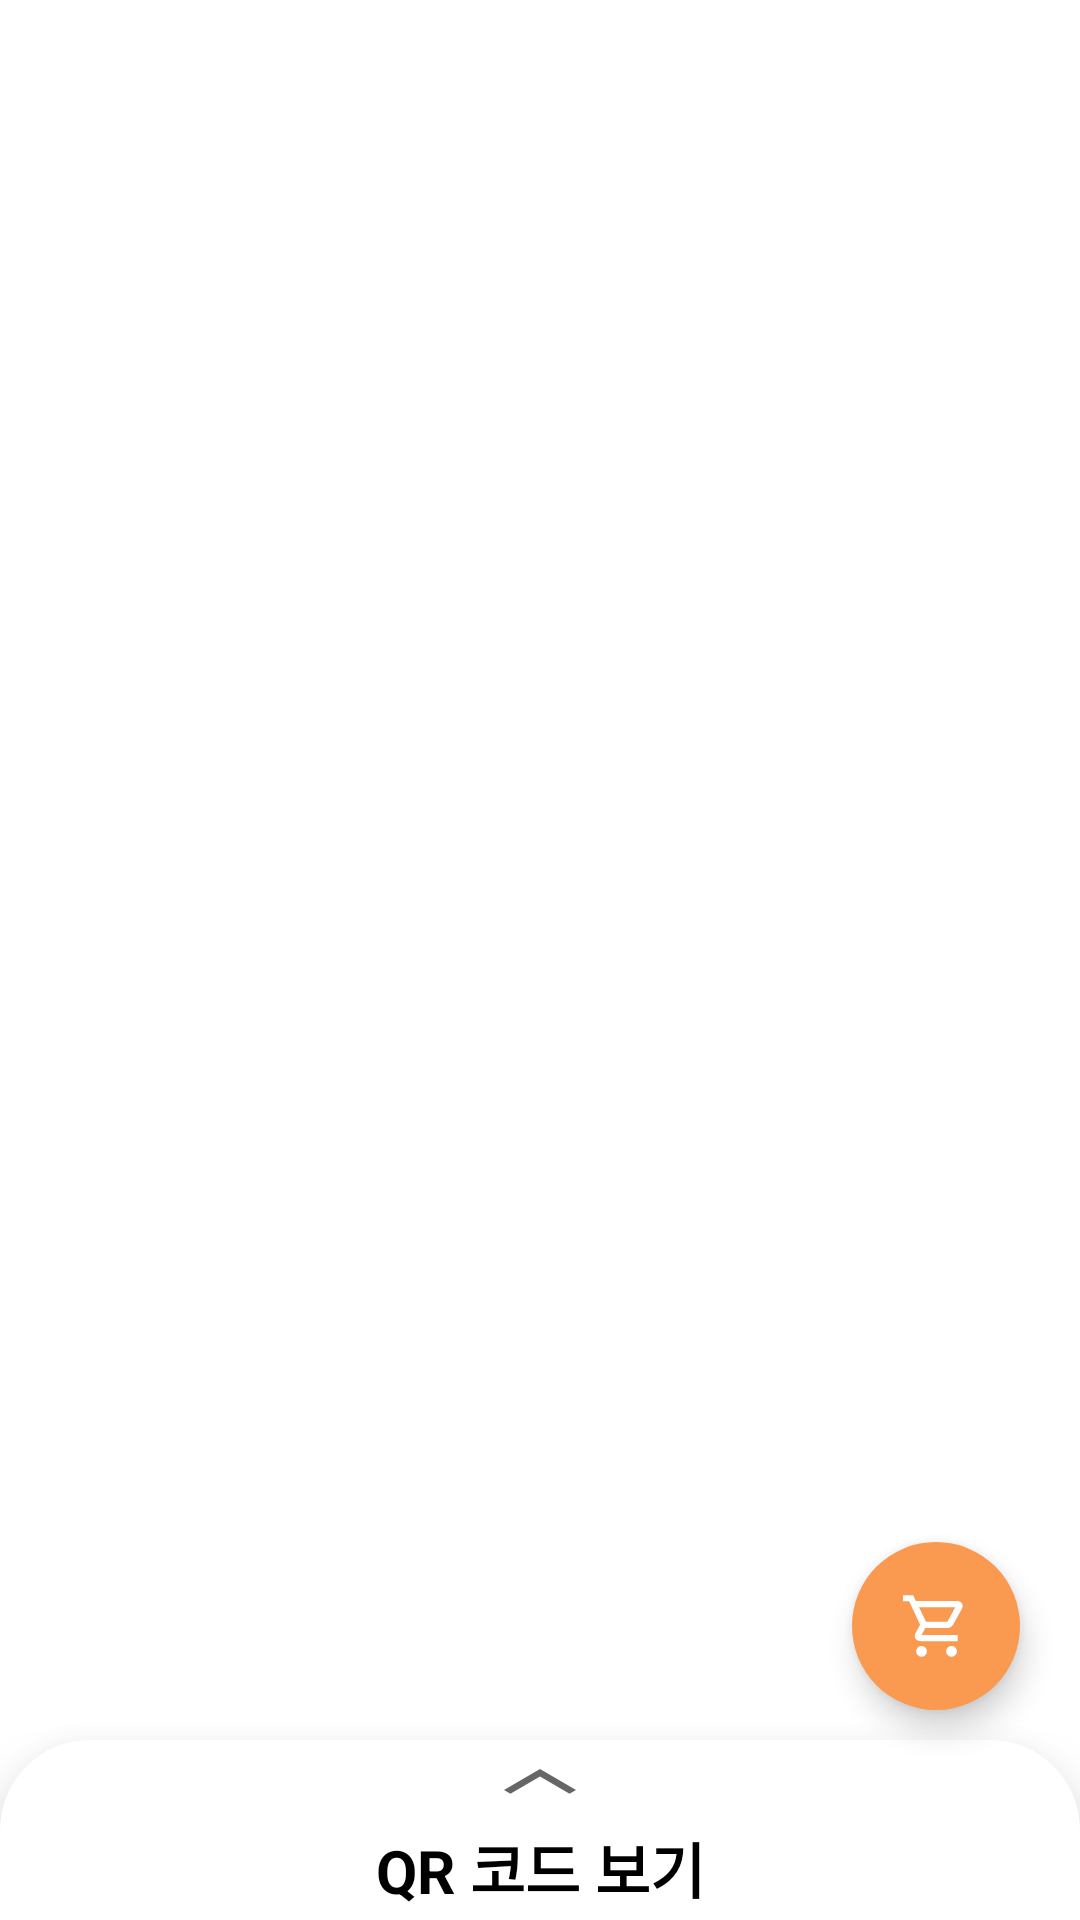

Where icons sit on this 1080px x 1920px app screen, as bbox=[x1, y1, x2, y2]:
expand less: bbox=[504, 1769, 576, 1794]
shopping cart: bbox=[852, 1542, 1020, 1710]
